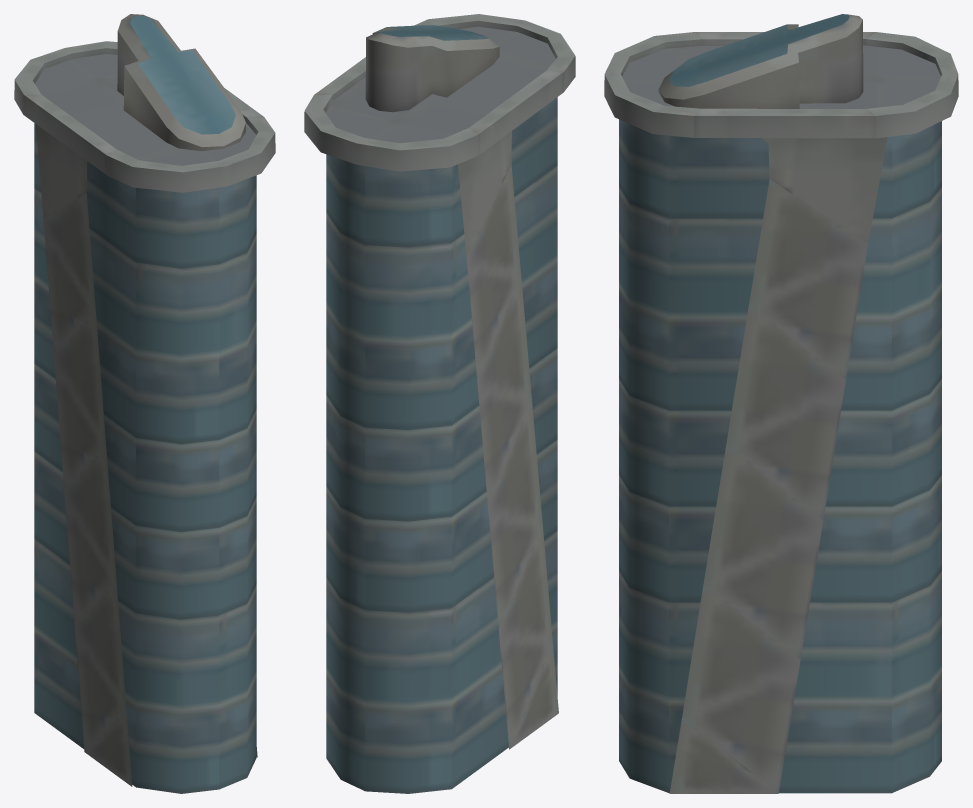
File: pref_sm_city_building02_snow_lv3.fbx
3 views of the same model, side by side, from view 1: azimuth 30°, elevation 25°; view 2: azimuth 150°, elevation 25°; view 3: azimuth 270°, elevation 25° (orthographic). The views are drawn at different scales.
Visible parts, largest first — view 1: pref_sm_city_building02_snow_lv3; view 2: pref_sm_city_building02_snow_lv3; view 3: pref_sm_city_building02_snow_lv3.
Part boxes in pixels (x1,y1,x2,y2): pref_sm_city_building02_snow_lv3: (14,14,275,793); pref_sm_city_building02_snow_lv3: (304,14,575,793); pref_sm_city_building02_snow_lv3: (604,14,958,793).
Size of the model in its own units: 11.5 by 48.08 by 20.42.
